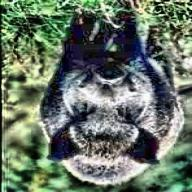boar: (38, 0, 191, 185)
